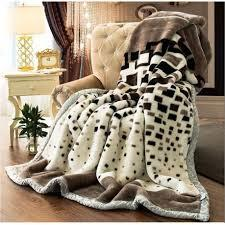Indoor Plant: (14, 102, 43, 152)
blanket: (8, 12, 208, 220)
curtain: (44, 1, 82, 84)
lamp: (6, 6, 44, 70)
sofa: (53, 23, 190, 205)
table: (5, 71, 62, 147)
